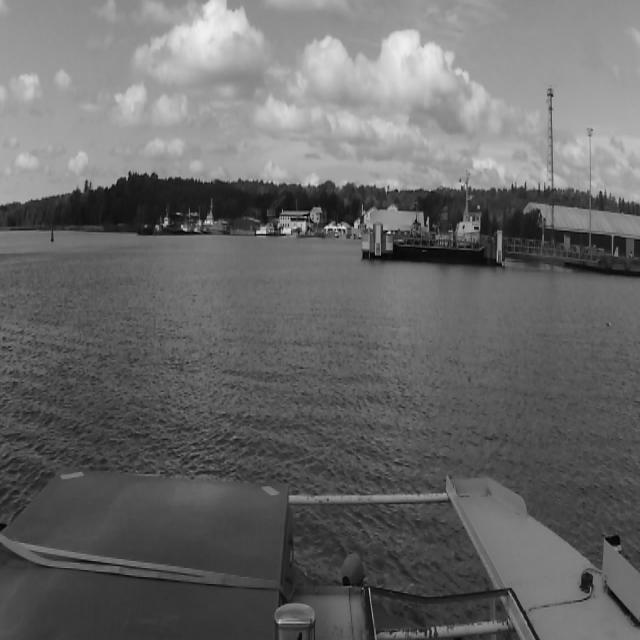buoy: (50, 228, 54, 242)
ship: (198, 214, 230, 236), (172, 220, 190, 236), (187, 223, 202, 235)
